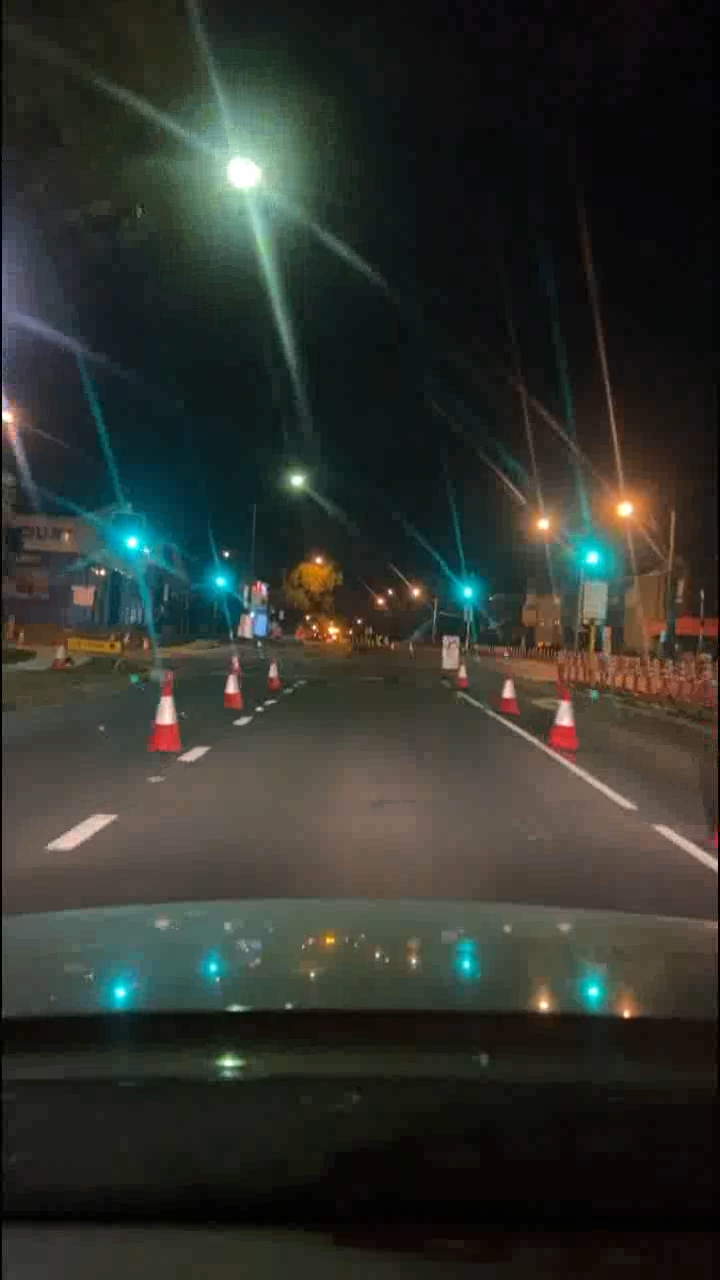road cone: (147, 673, 187, 748), (537, 679, 577, 754), (487, 659, 525, 729), (209, 665, 245, 713), (253, 651, 291, 696), (445, 647, 475, 698)
